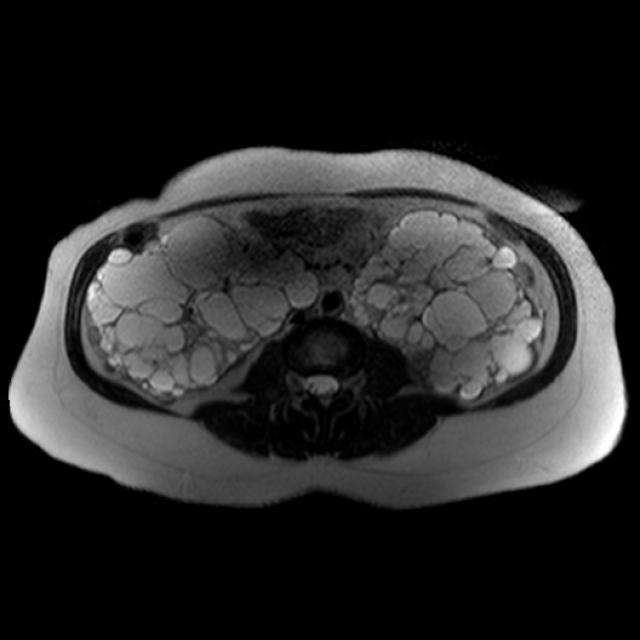sag: (82, 214, 319, 403)
sol: (353, 208, 549, 401)
